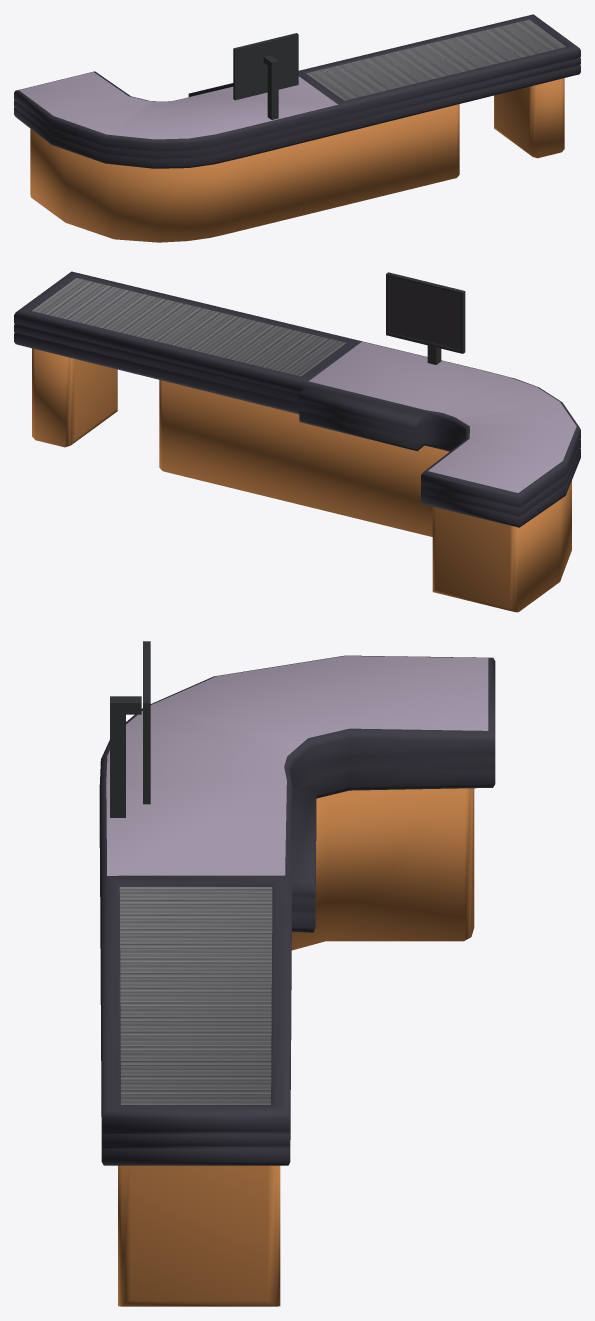
File: cash_alt.glb
3 renders of one model, top to bottom at view 1: azimuth 30°, elevation 25°; view 2: azimuth 150°, elevation 25°; view 3: azimuth 270°, elevation 25°, orthographic. The views are drawn at different scales.
Visible parts, largest first — view 1: Cube.005, Cube.004, Cube.007, Cube.006; view 2: Cube.005, Cube.004, Cube.007; view 3: Cube.005, Cube.004, Cube.006, Cube.007.
Part boxes in pixels (x1,y1,x2,y2): Cube.005: (14,14,580,168); Cube.004: (30,78,564,242); Cube.007: (233,33,298,100); Cube.006: (263,55,278,119); Cube.005: (14,271,580,527); Cube.004: (32,348,571,612); Cube.007: (386,272,465,353); Cube.005: (99,655,495,1165); Cube.004: (118,788,474,1306); Cube.006: (110,696,141,817); Cube.007: (143,641,150,804).
Bounding box in the file's own units: 11.97 × 4.29 × 4.36.
6 materials, 1 textured.
